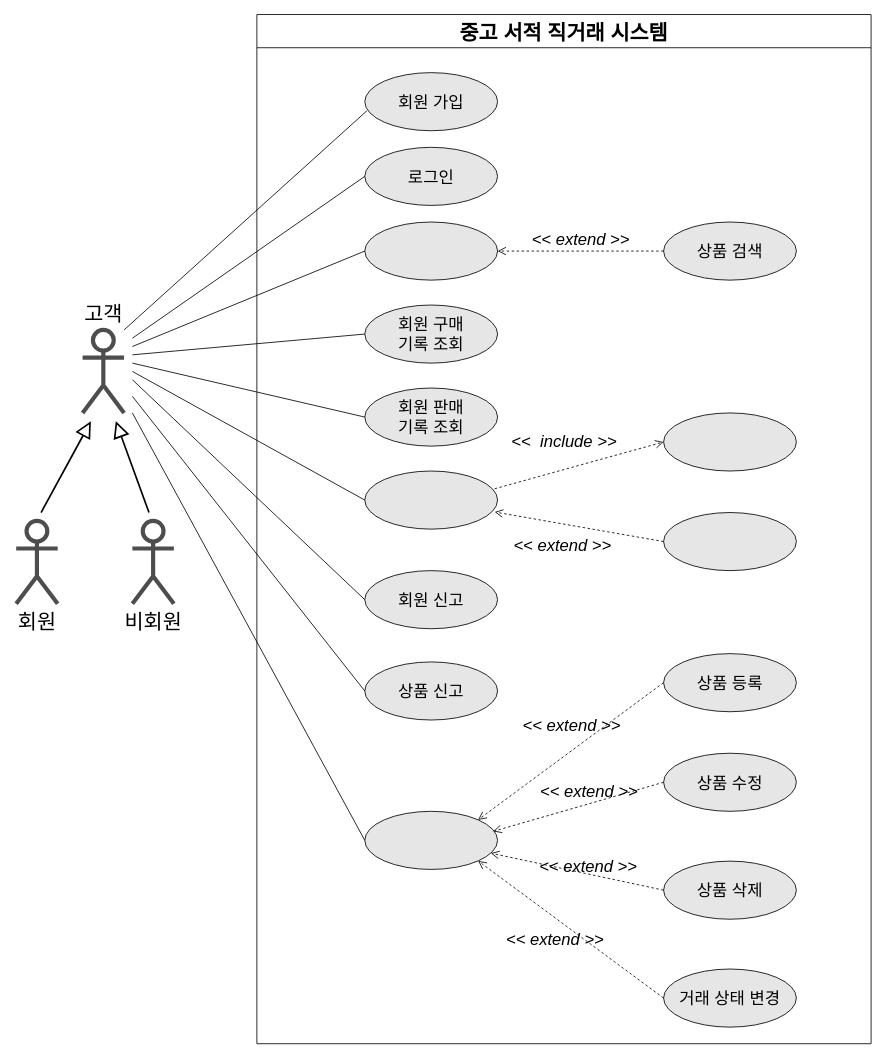
This 886x1058 diagram has some shape labels left out. Each missing label, with the centre of its shape:
"상품 거래" goes at (431,499).
"상품 거래 채팅" goes at (729,441).
"상품 거래 평가" goes at (729,541).
"상품 관리" goes at (431,839).
"상품 조회" goes at (431,250).
